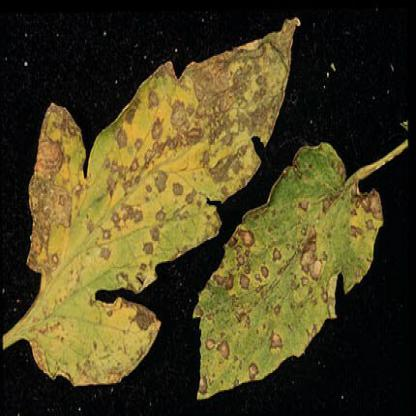Tomato Septoria leaf spot: (26, 20, 305, 384), (192, 149, 390, 403)
